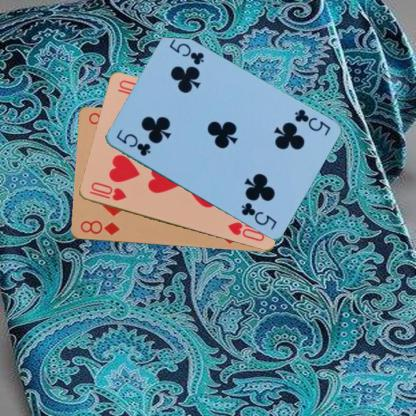10h: (86, 179, 128, 202)
5c: (291, 106, 331, 137), (113, 127, 152, 158)
8d: (77, 218, 121, 236)
